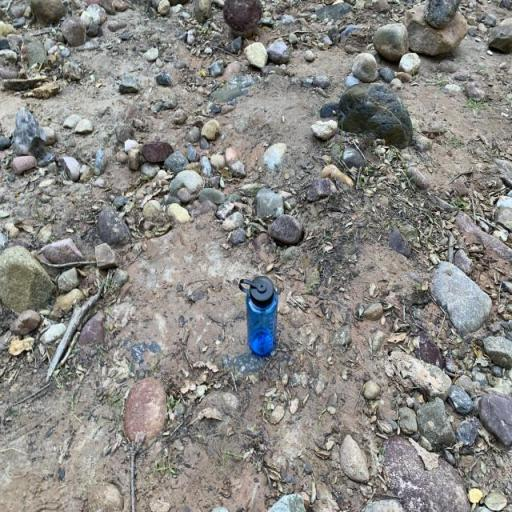bottle: (239, 277, 278, 357)
